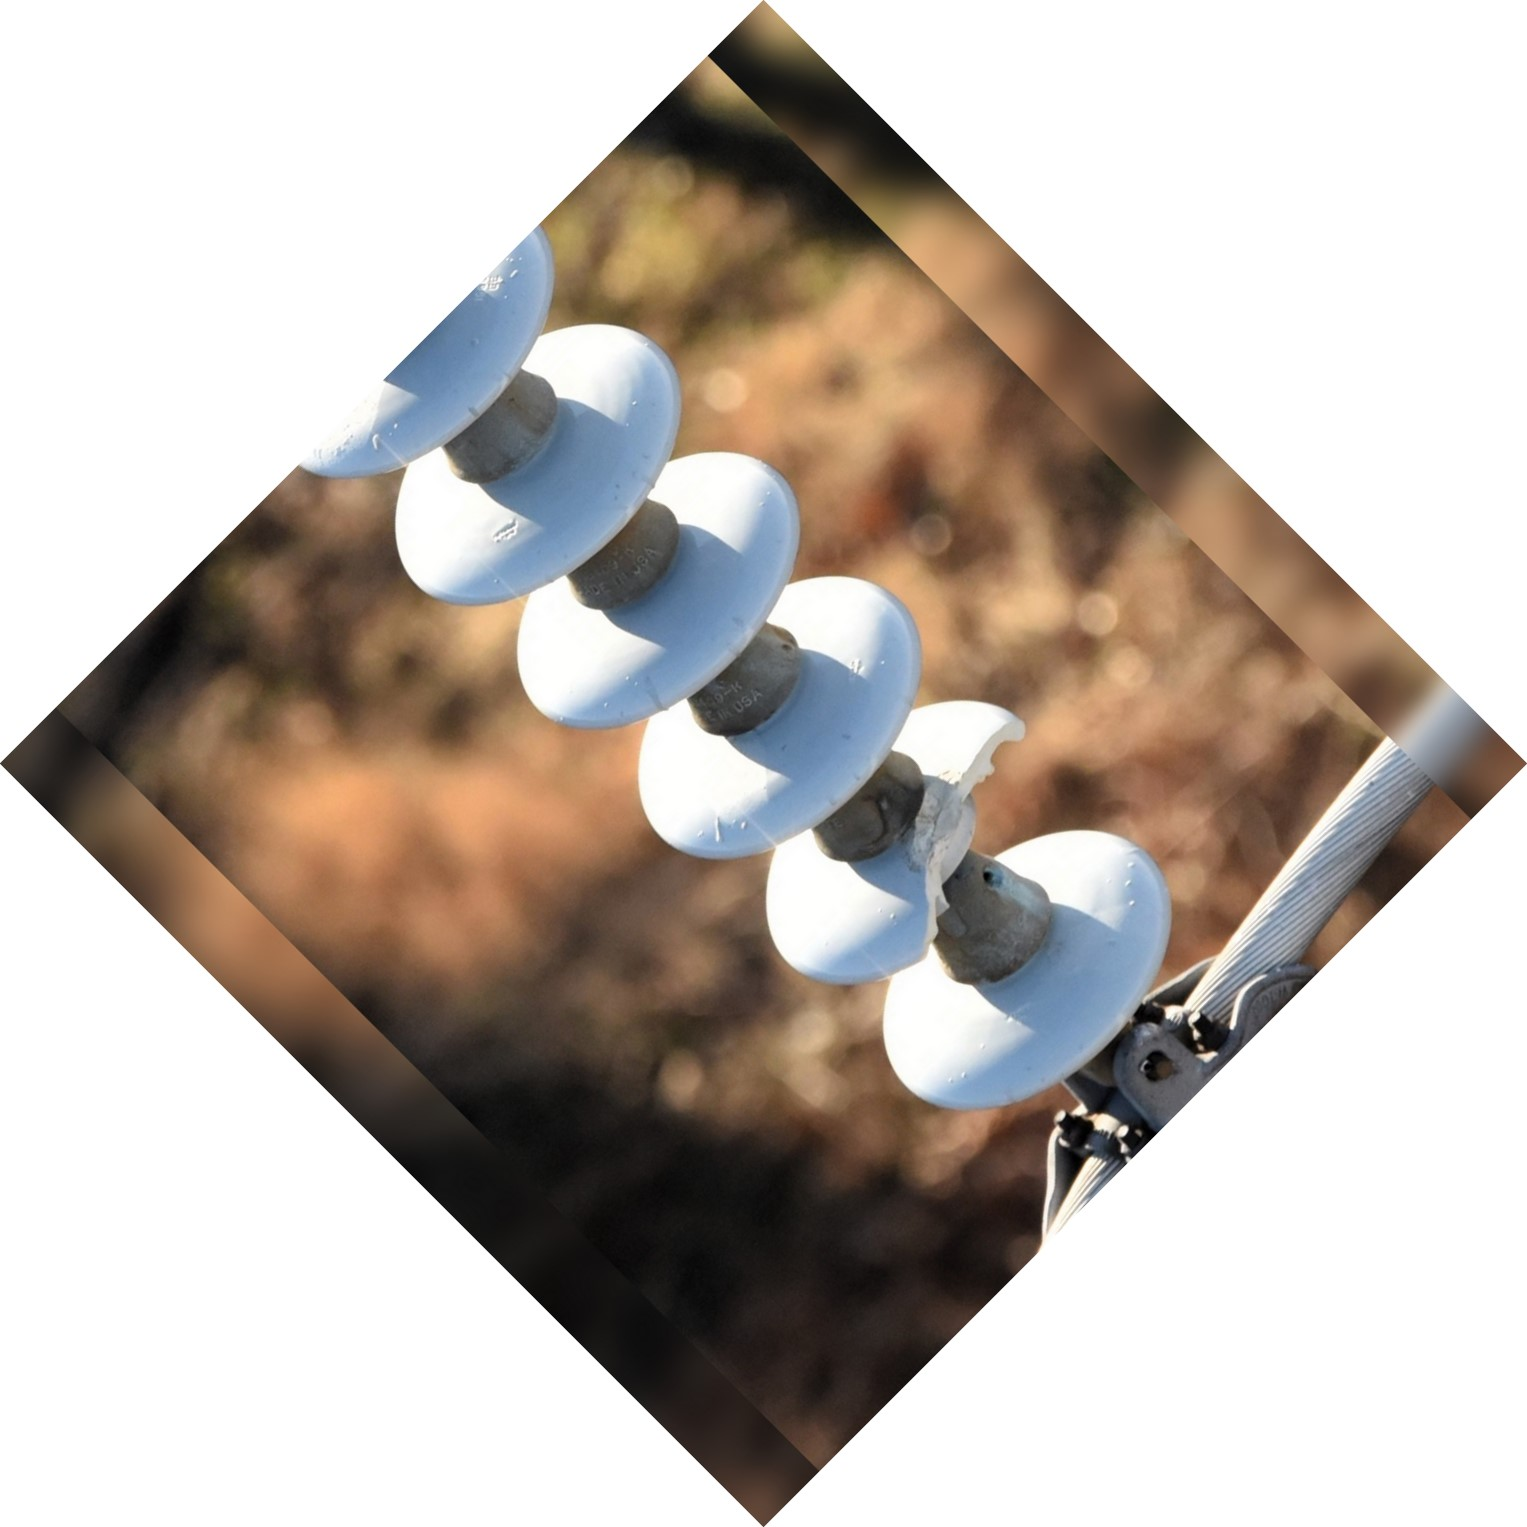insulator breakage: (751, 703, 1039, 983)
